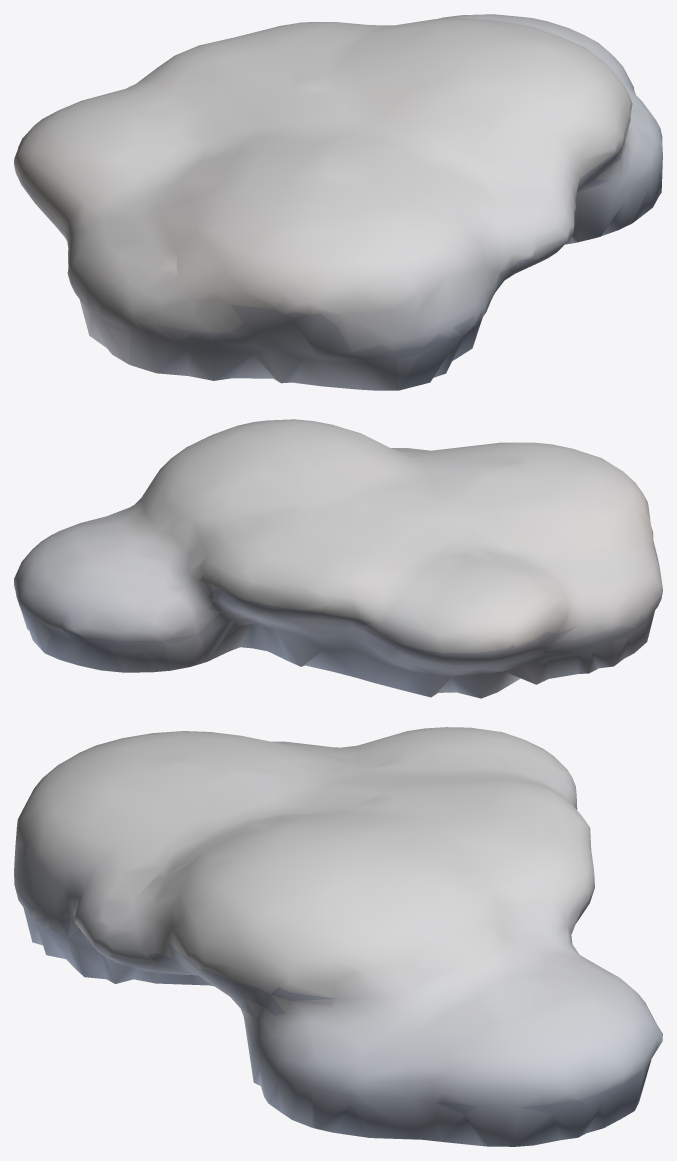
The model's file is CloudA.glb.
3 renders of one model, top to bottom at view 1: azimuth 30°, elevation 25°; view 2: azimuth 150°, elevation 25°; view 3: azimuth 270°, elevation 25°, orthographic. The views are drawn at different scales.
Visible parts, largest first — view 1: Cloud; view 2: Cloud; view 3: Cloud.
Part boxes in pixels (x1=…): Cloud: x1=14, y1=14, x2=662, y2=390; Cloud: x1=14, y1=419, x2=662, y2=698; Cloud: x1=14, y1=727, x2=662, y2=1146.
Bounding box in the file's own units: 145 × 43.09 × 124.
